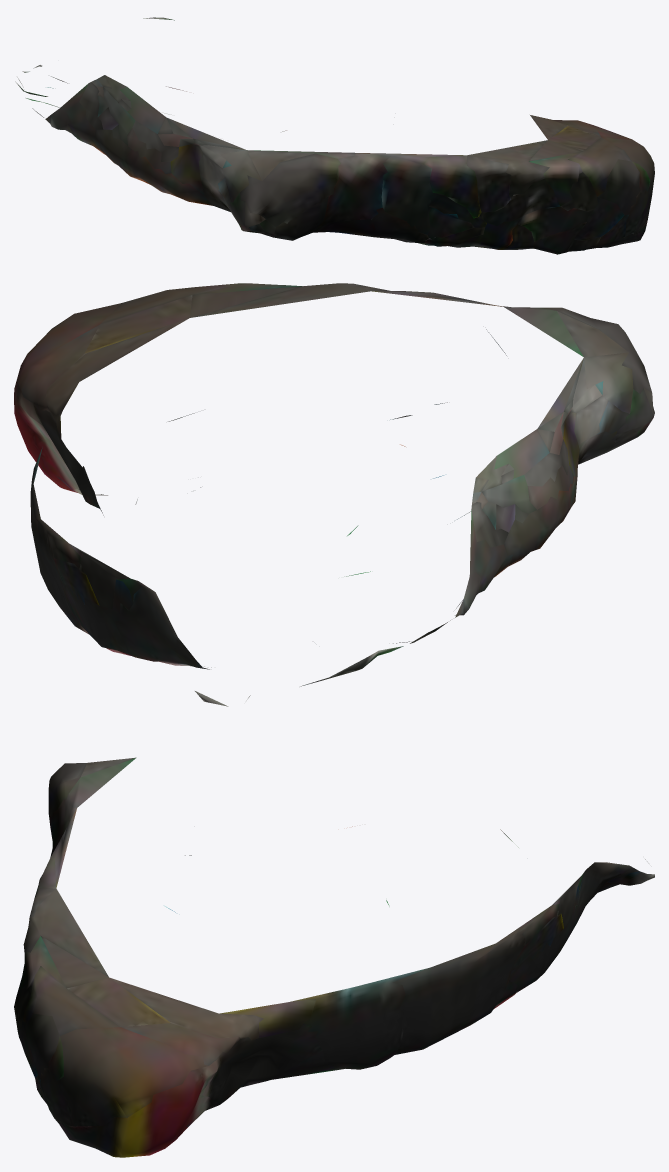
Rendered from hall.glb.
3 views of the same model, one above another, from view 1: azimuth 30°, elevation 25°; view 2: azimuth 150°, elevation 25°; view 3: azimuth 270°, elevation 25° (orthographic). The views are drawn at different scales.
Bounding box in the file's own units: 0.6497 × 0.2423 × 0.6989.
Materials: 1 (1 with a texture image).
